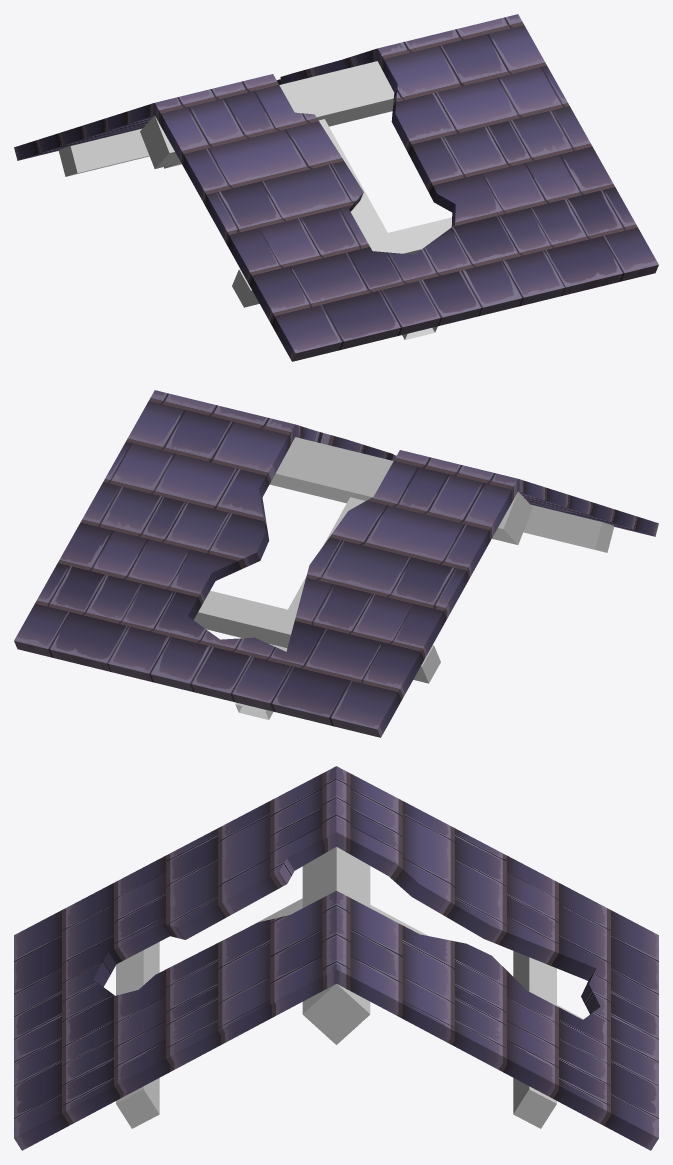
Rendered from roof01_3x3m_B.fbx.
3 renders of one model, top to bottom at view 1: azimuth 30°, elevation 25°; view 2: azimuth 150°, elevation 25°; view 3: azimuth 270°, elevation 25°, orthographic. The views are drawn at different scales.
Visible parts, largest first — view 1: roof01_3x3m_B; view 2: roof01_3x3m_B; view 3: roof01_3x3m_B.
Boxes of the visible parts, left/top/right/bottom form: roof01_3x3m_B: left=14, top=14, right=658, bottom=361; roof01_3x3m_B: left=14, top=390, right=658, bottom=737; roof01_3x3m_B: left=14, top=766, right=658, bottom=1150.
Bounding box in the file's own units: 300 × 146 × 403.
